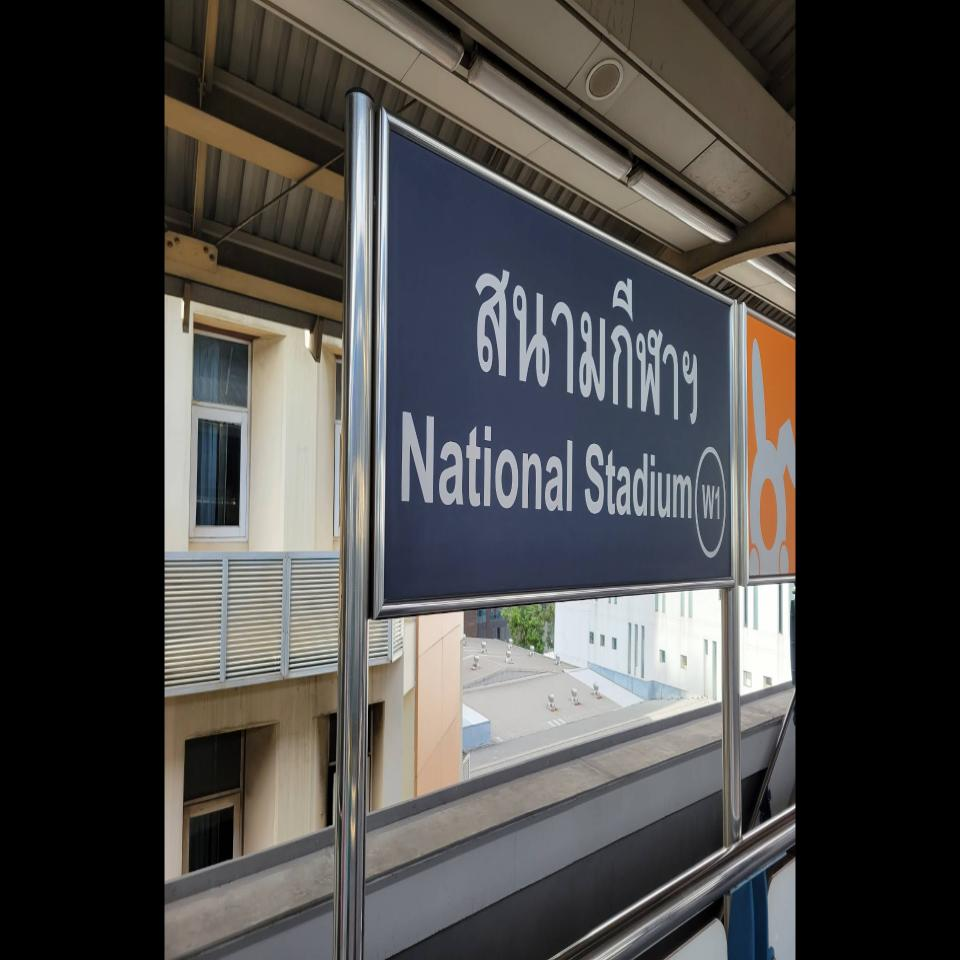signage: (370, 106, 739, 616)
